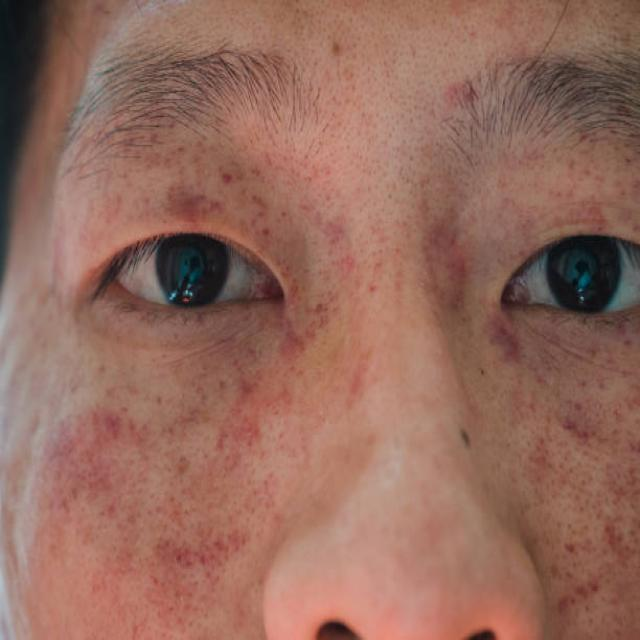Eczema: (25, 398, 250, 601), (495, 382, 640, 565), (428, 215, 522, 372)
